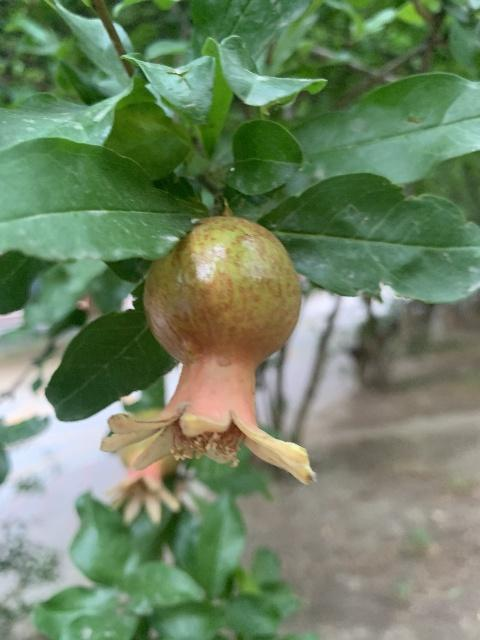early-fruit: (101, 213, 313, 485)
mid-growth: (100, 434, 185, 525)
